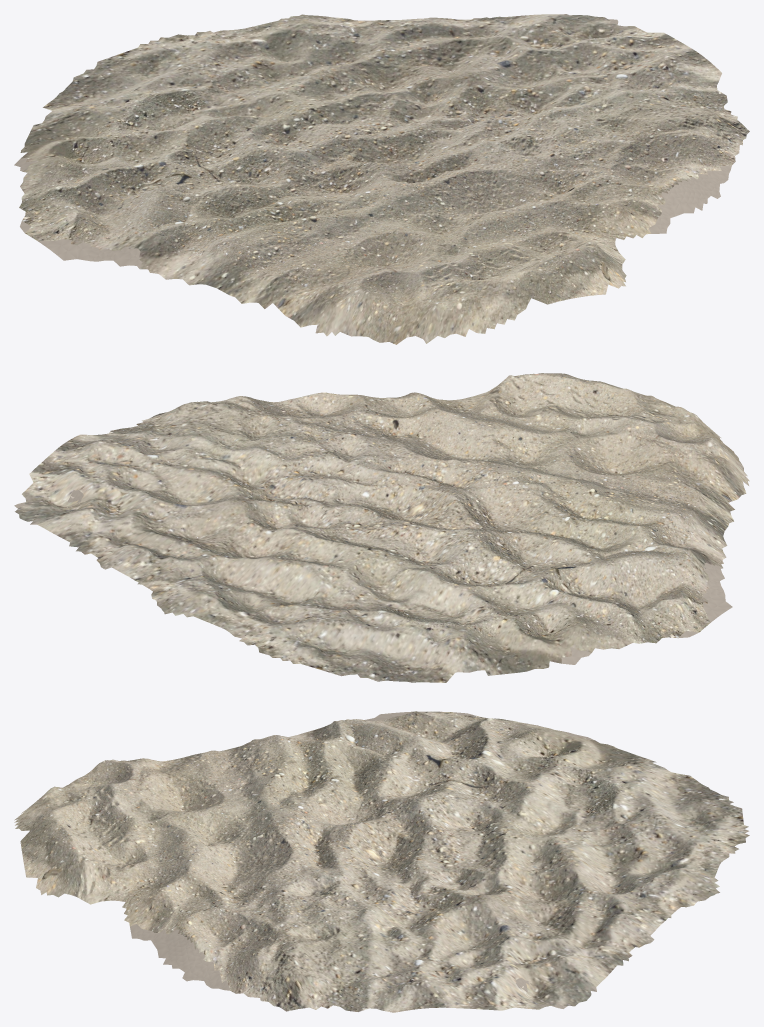
The model's file is sand_at_sunset_beach.glb.
The picture shows the model from 3 angles, top to bottom: view 1: azimuth 30°, elevation 25°; view 2: azimuth 150°, elevation 25°; view 3: azimuth 270°, elevation 25°; orthographic projection. The views are drawn at different scales.
Visible parts, largest first — view 1: Object_2, Object_3, Object_4; view 2: Object_2, Object_3, Object_4; view 3: Object_2, Object_3, Object_4.
Boxes of the visible parts, x1,y1,x2,y2 form: Object_2: [14, 14, 749, 344]; Object_3: [27, 16, 721, 342]; Object_4: [19, 91, 205, 243]; Object_2: [14, 373, 737, 676]; Object_3: [41, 404, 749, 682]; Object_4: [380, 552, 710, 643]; Object_2: [14, 711, 749, 1011]; Object_3: [69, 711, 735, 1012]; Object_4: [341, 711, 627, 816].
Bounding box in the file's own units: 16.93 × 1.04 × 16.48.
2 materials, 2 textured.
